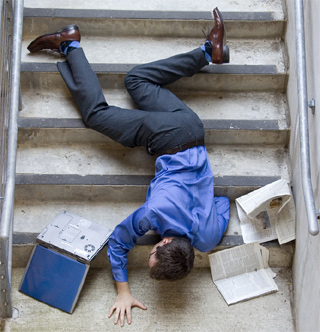unusual: (11, 11, 306, 317)
